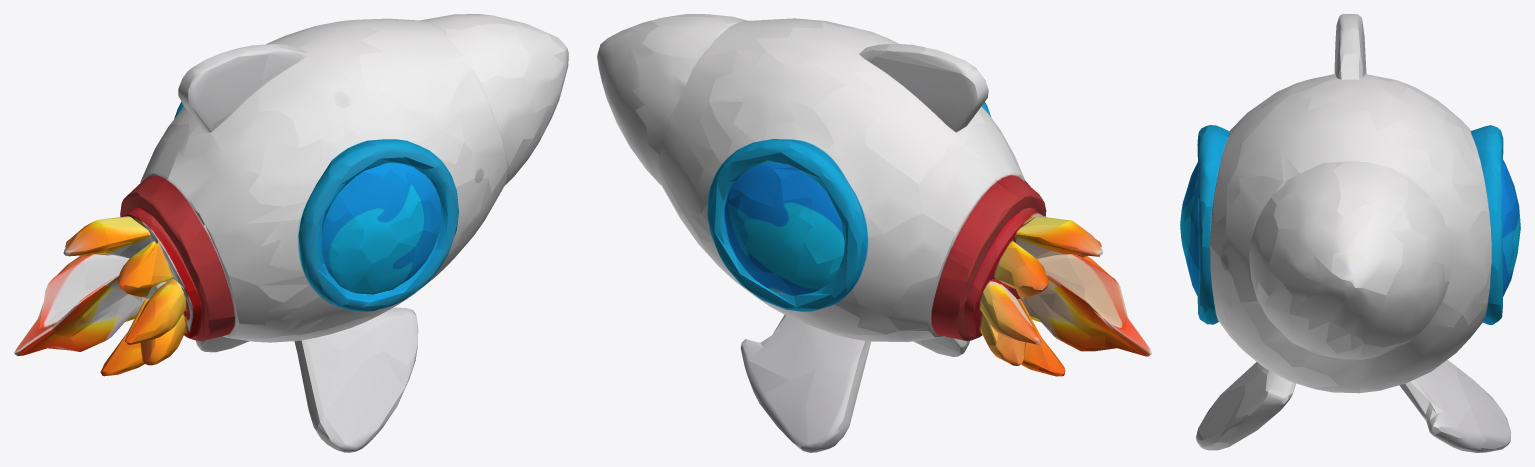
Rendered from rocket.glb.
The picture shows the model from 3 angles, left to right: view 1: azimuth 30°, elevation 25°; view 2: azimuth 150°, elevation 25°; view 3: azimuth 270°, elevation 25°; orthographic projection. The views are drawn at different scales.
Parts seen in each view (by area): view 1: output_unwrapped; view 2: output_unwrapped; view 3: output_unwrapped.
Boxes of the visible parts, x1=… form: output_unwrapped: x1=14, y1=14, x2=568, y2=452; output_unwrapped: x1=597, y1=14, x2=1151, y2=452; output_unwrapped: x1=1180, y1=14, x2=1520, y2=452.
Size of the model in its own units: 1.9 by 1.2 by 0.9375.
1 material, 1 textured.
